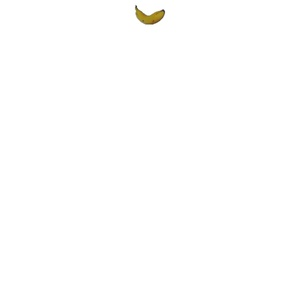banana: (130, 4, 170, 30)
